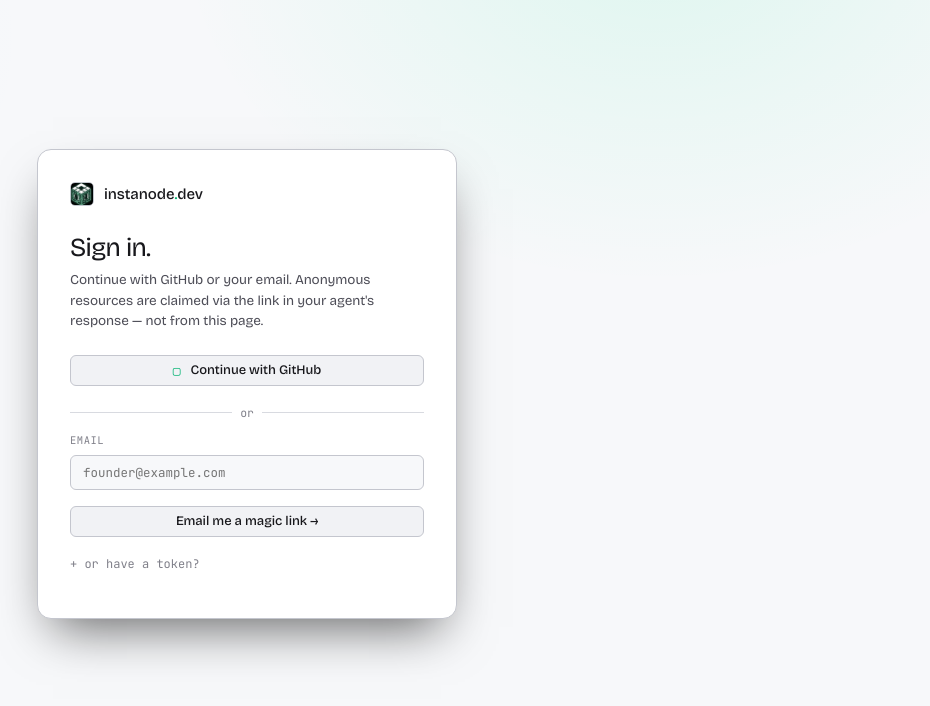
Test: LoginPage › surfaces a magic-link API error
The image size is (930, 706).
Type "founder@acme.dev" into the field with test id "email-input" at [247, 473], box [70, 455, 424, 490]
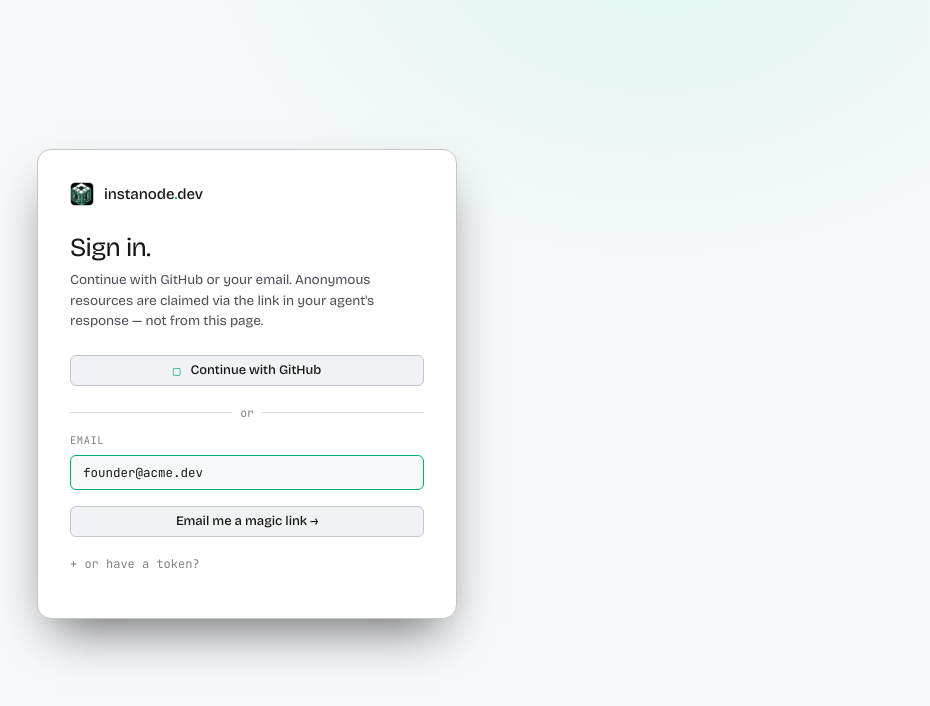
Click the button with test id "email-submit" at [247, 522], box [70, 506, 424, 537]
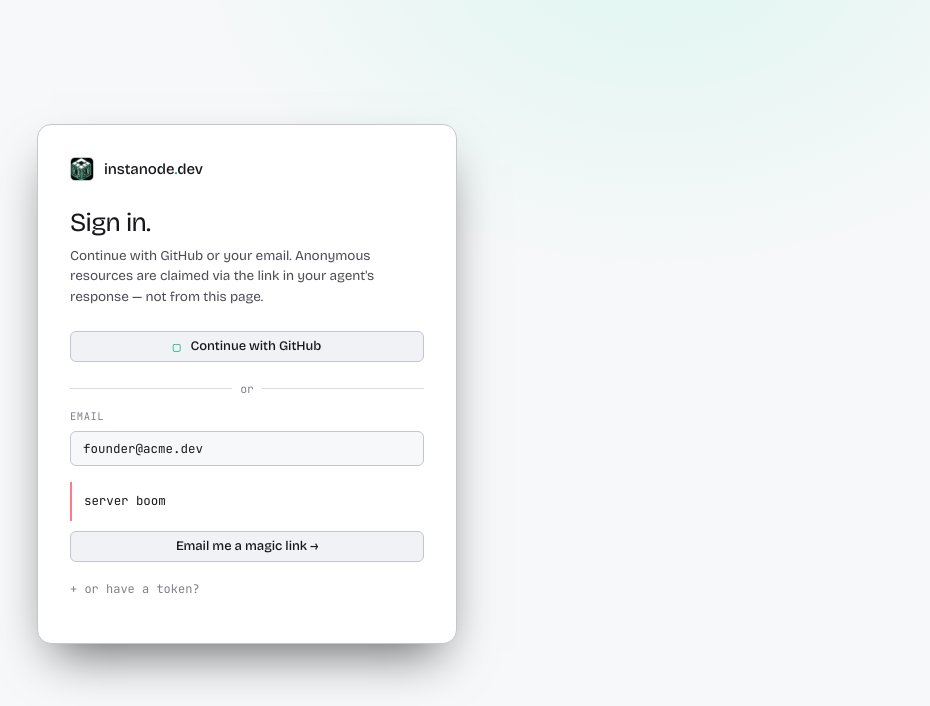
Expected: the message with test id "email-error" reads "server boom", [84, 492, 166, 509]
